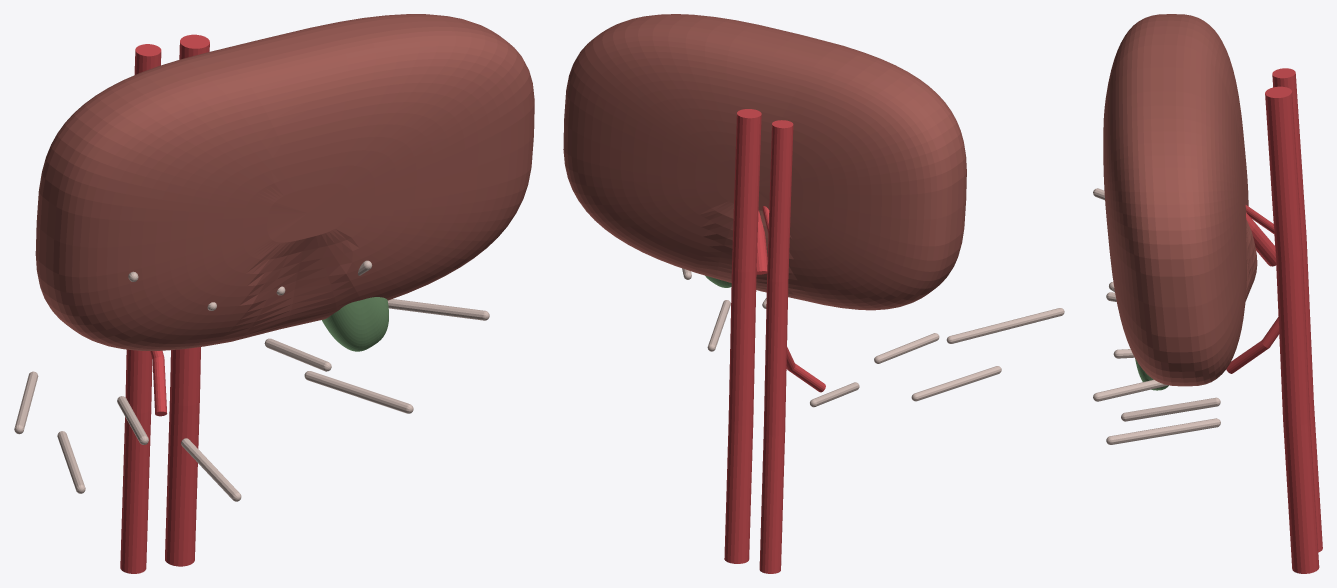
File: dranmar_patient_liver_scenario.glb
The picture shows the model from 3 angles, left to right: view 1: azimuth 30°, elevation 25°; view 2: azimuth 150°, elevation 25°; view 3: azimuth 270°, elevation 25°; orthographic projection. The views are drawn at different scales.
Parts seen in each view (by area): view 1: liver, major_vessels, adhesions, gallbladder; view 2: liver, major_vessels, adhesions; view 3: liver, major_vessels, adhesions.
Boxes of the visible parts, bbox=[...] form: liver: bbox=[35, 14, 534, 350]; major_vessels: bbox=[120, 34, 209, 573]; adhesions: bbox=[14, 260, 489, 501]; gallbladder: bbox=[322, 297, 388, 351]; liver: bbox=[563, 14, 966, 310]; major_vessels: bbox=[724, 109, 825, 573]; adhesions: bbox=[682, 268, 1064, 407]; liver: bbox=[1103, 14, 1257, 386]; major_vessels: bbox=[1226, 68, 1322, 573]; adhesions: bbox=[1093, 188, 1220, 444].
Size of the model in its own units: 0.3178 by 0.3104 by 0.127.
